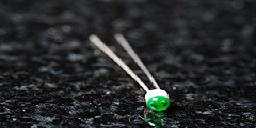LED: (94, 33, 168, 110)
